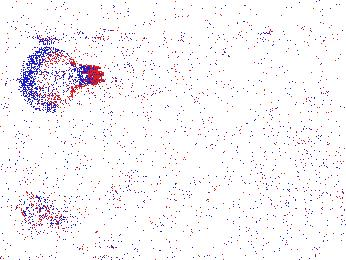flame jellyfish: (16, 46, 103, 113), (46, 167, 121, 226), (1, 166, 58, 216)
